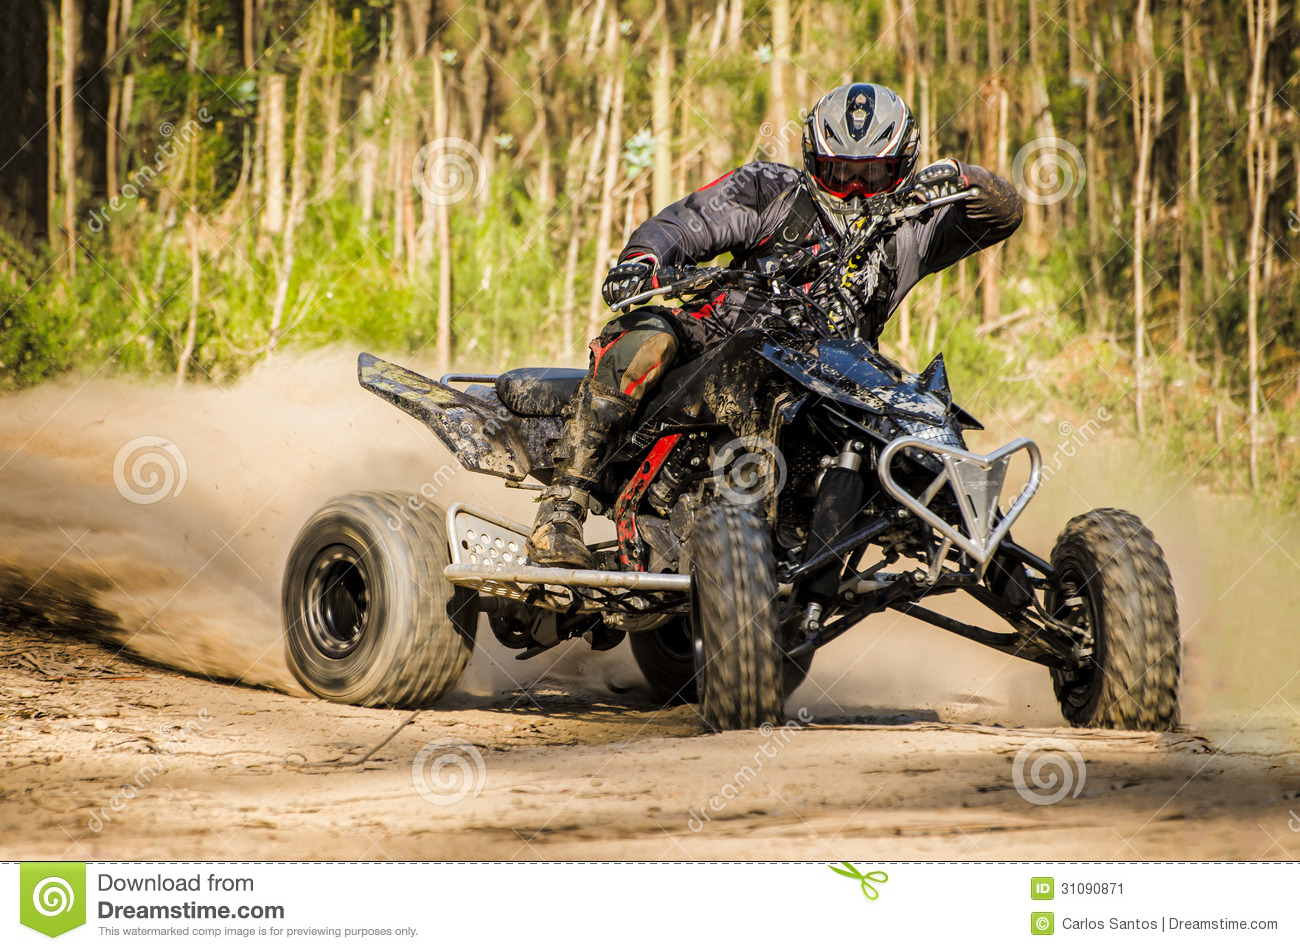helmet: (793, 82, 928, 232)
